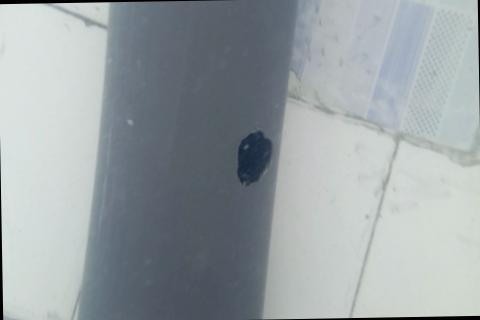kebocoran: (233, 127, 275, 186)
